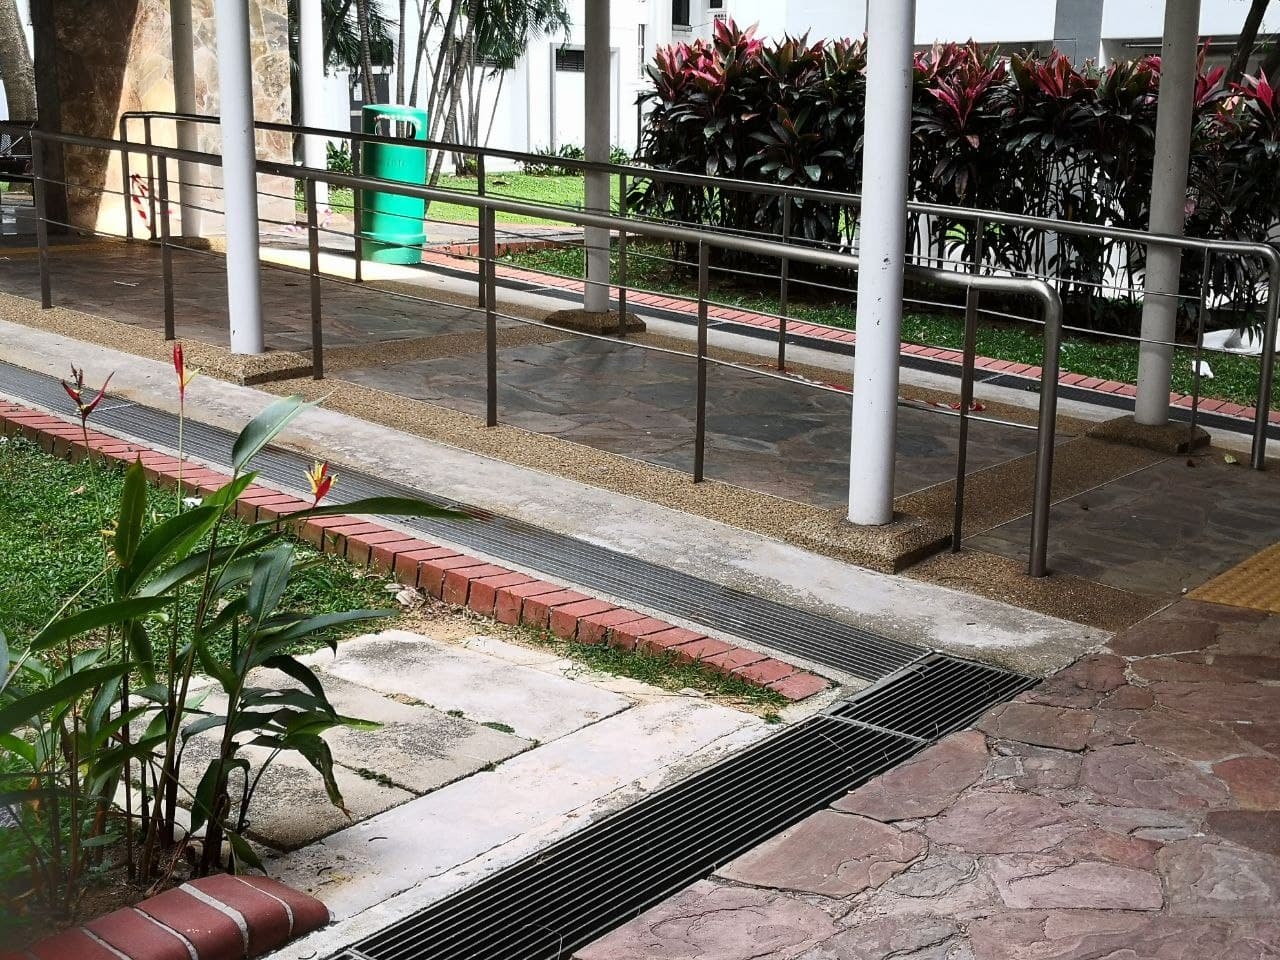slopes: (13, 64, 1280, 638)
